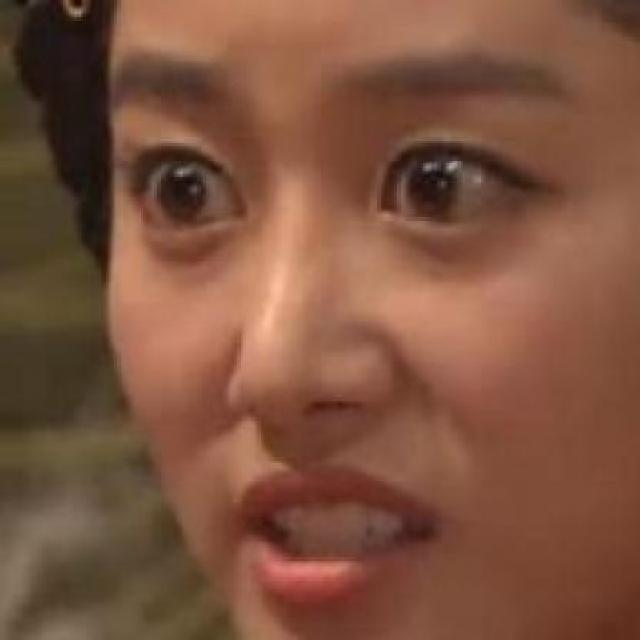angry: (110, 46, 573, 640)
